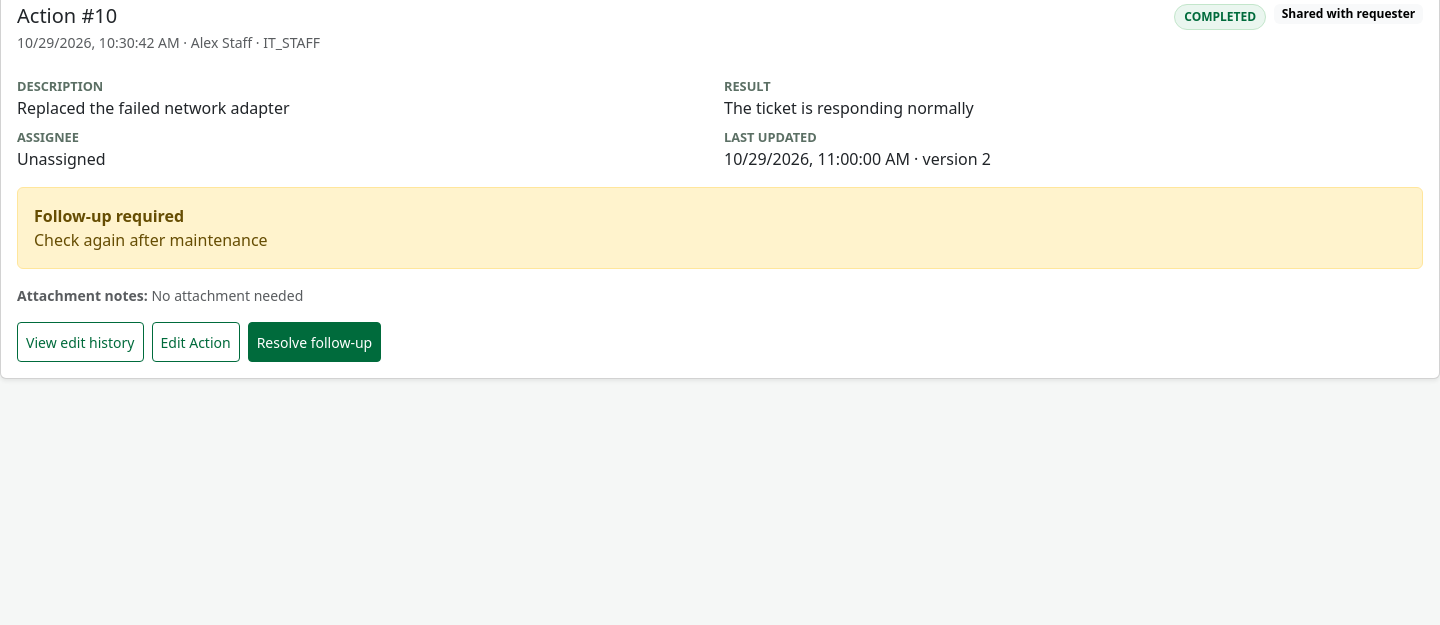
Test: Lab 4 Actions Taken UI › supports edit history and follow-up resolution, while reporting stale edits
Click the button "View edit history".
click(80, 342)  # box x1=17 y1=322 x2=144 y2=362
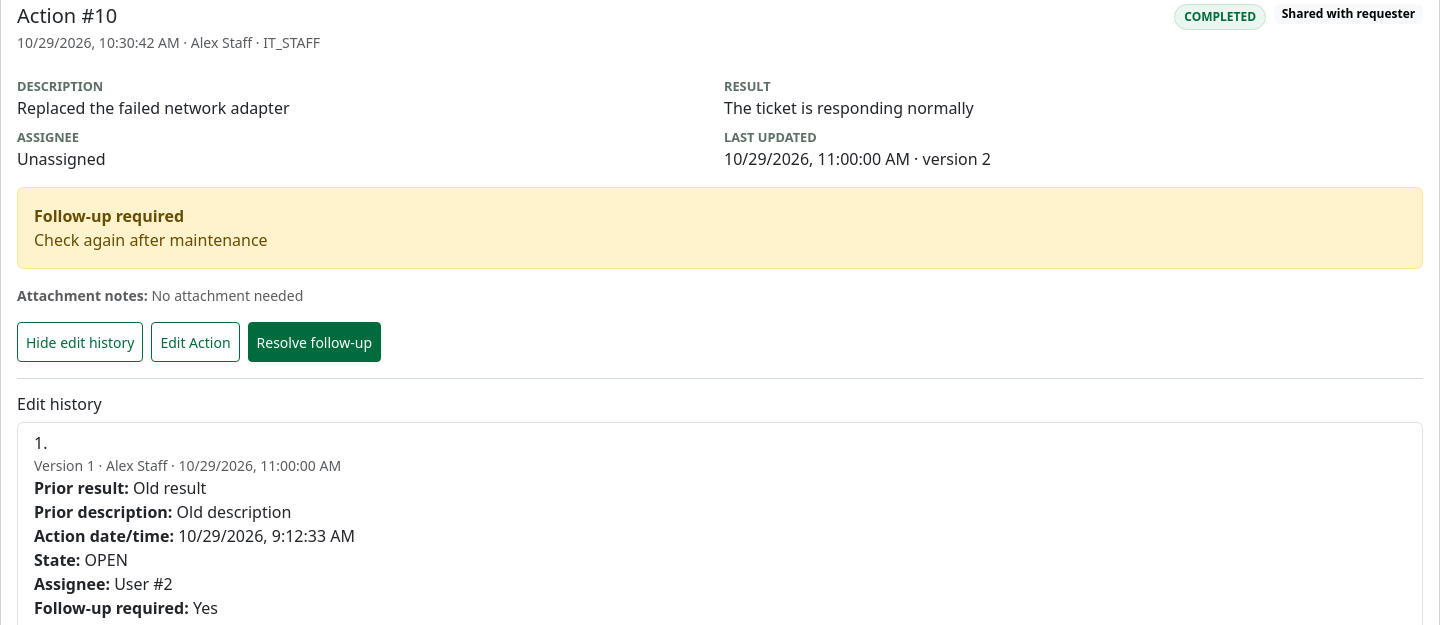
Expected: the text "Old result" is shown, x1=133 y1=477 x2=206 y2=499
Expected: the text "Action date/time:" is shown, x1=34 y1=525 x2=174 y2=547
Expected: the text "State:" is shown, x1=34 y1=549 x2=80 y2=571
Click the button "Resolve follow-up".
click(314, 342)  # box x1=248 y1=322 x2=381 y2=362
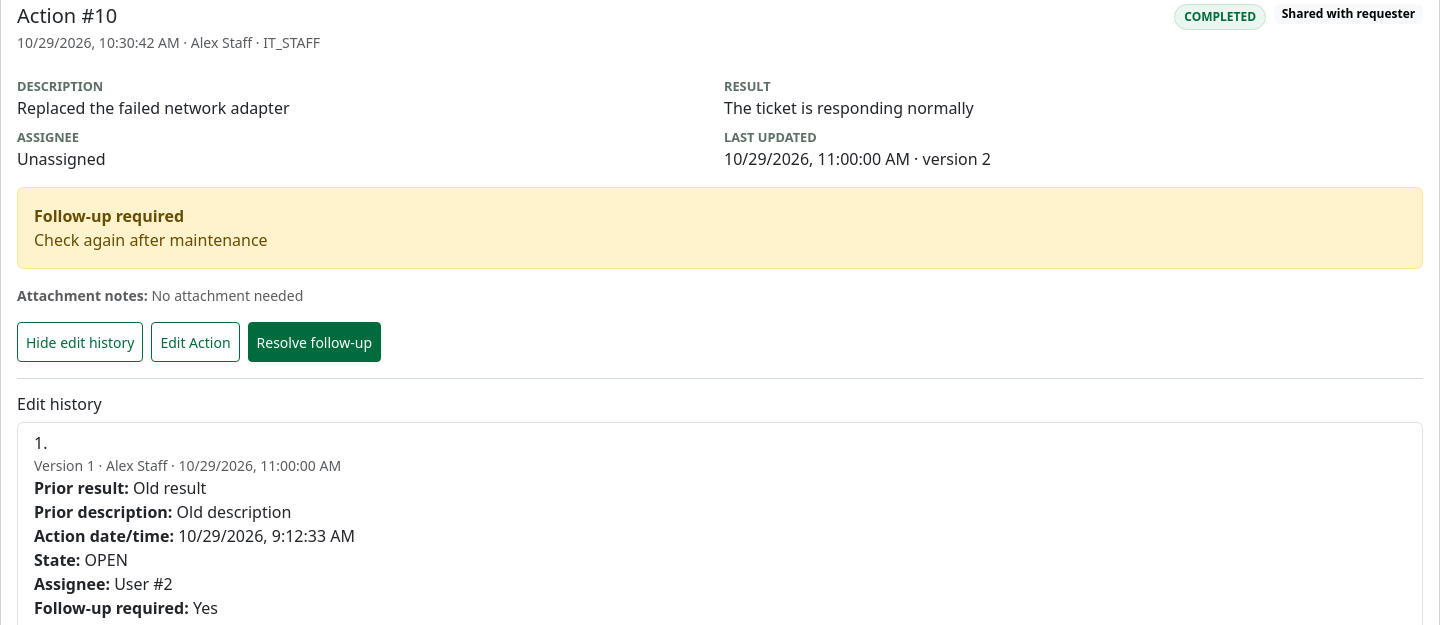
Click the button "Edit Action".
click(196, 342)  # box x1=151 y1=322 x2=240 y2=362
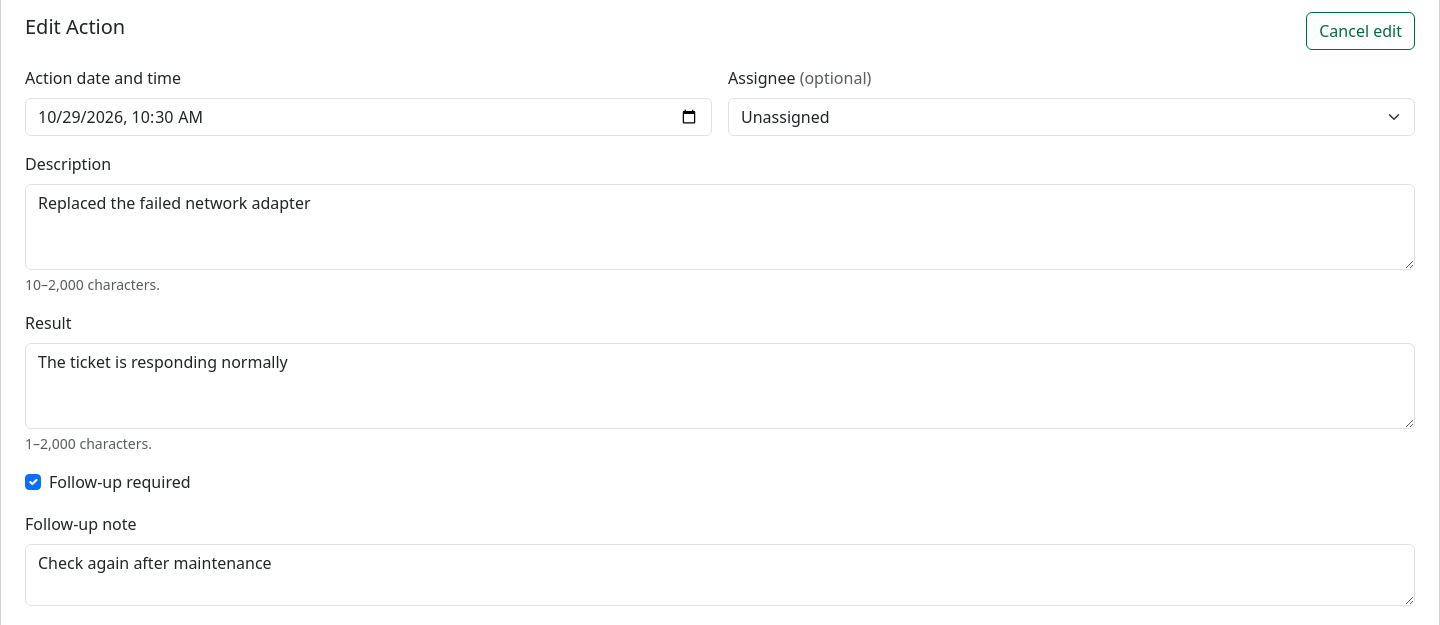
Replace the text in the text box labelled "Result" with "A newer result" at (720, 386), box x1=25 y1=343 x2=1415 y2=429
(page scrolled)
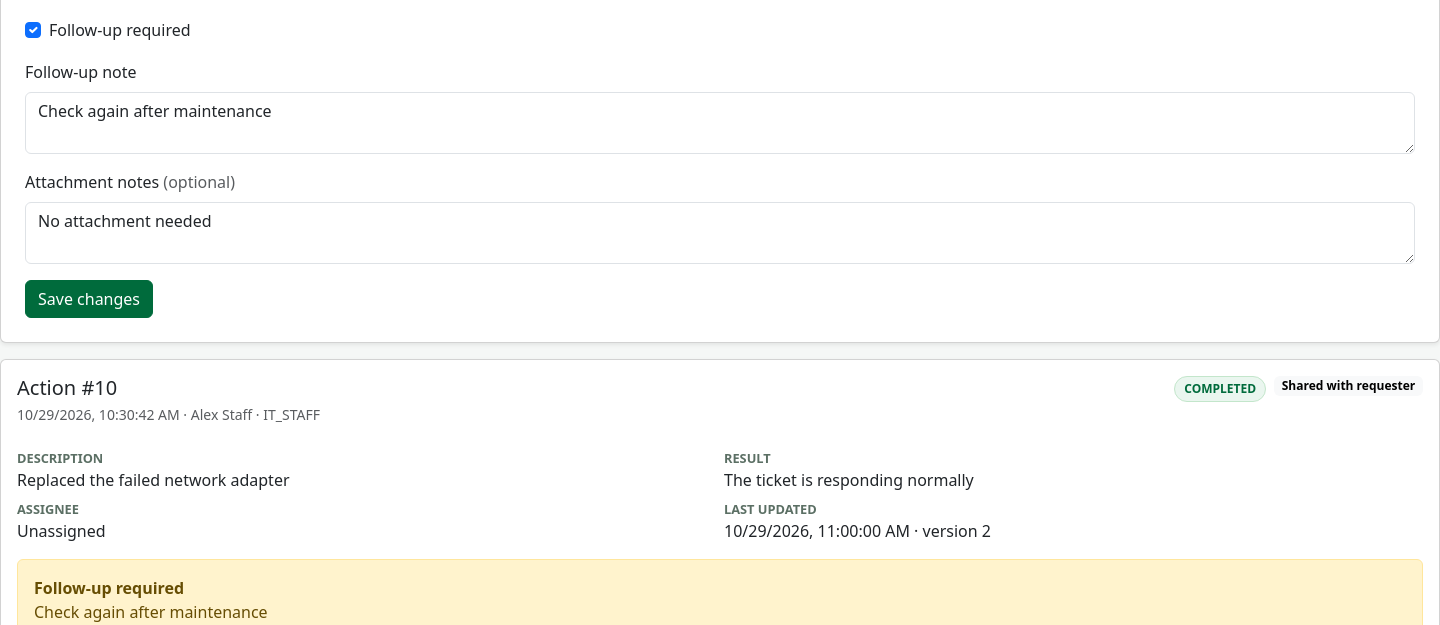
Click the button "Save changes".
click(89, 299)  # box x1=25 y1=280 x2=153 y2=318
(page scrolled)
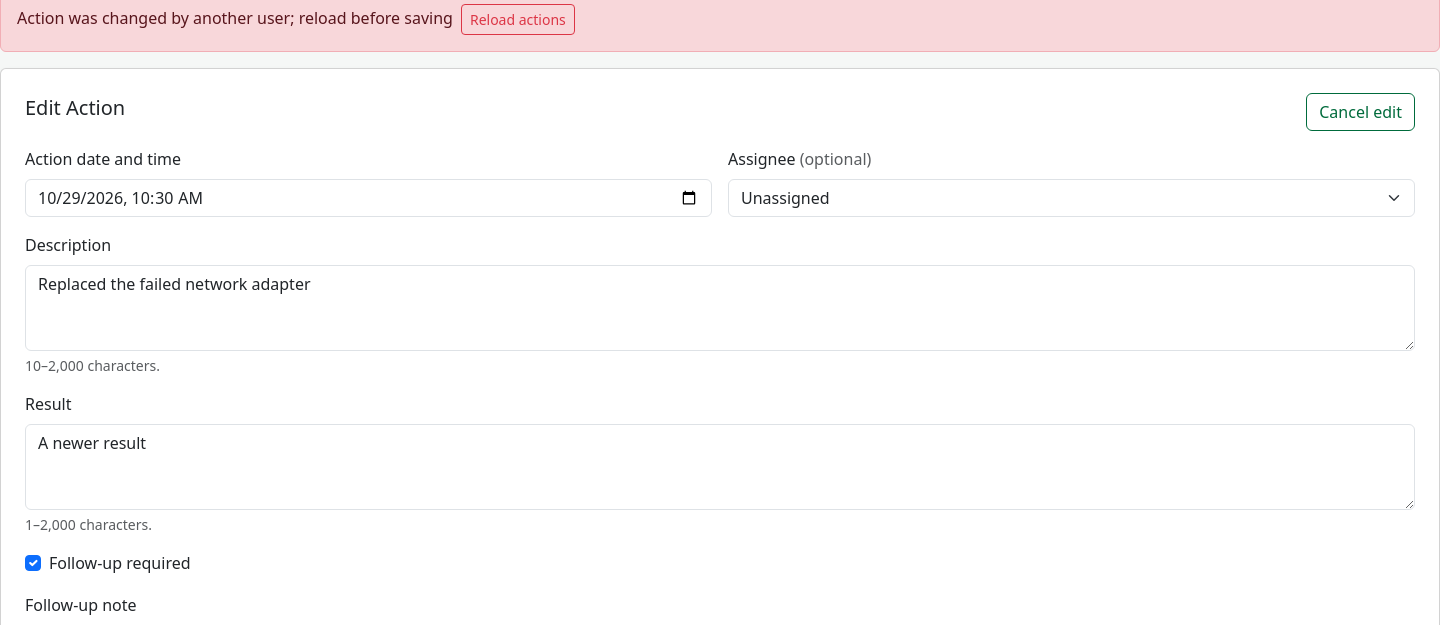
Expected: the message "Action was changed by another user; reload before saving Reload actions" is shown, x1=17 y1=7 x2=453 y2=29
Expected: the button "Reload actions" is shown, x1=461 y1=4 x2=575 y2=35
